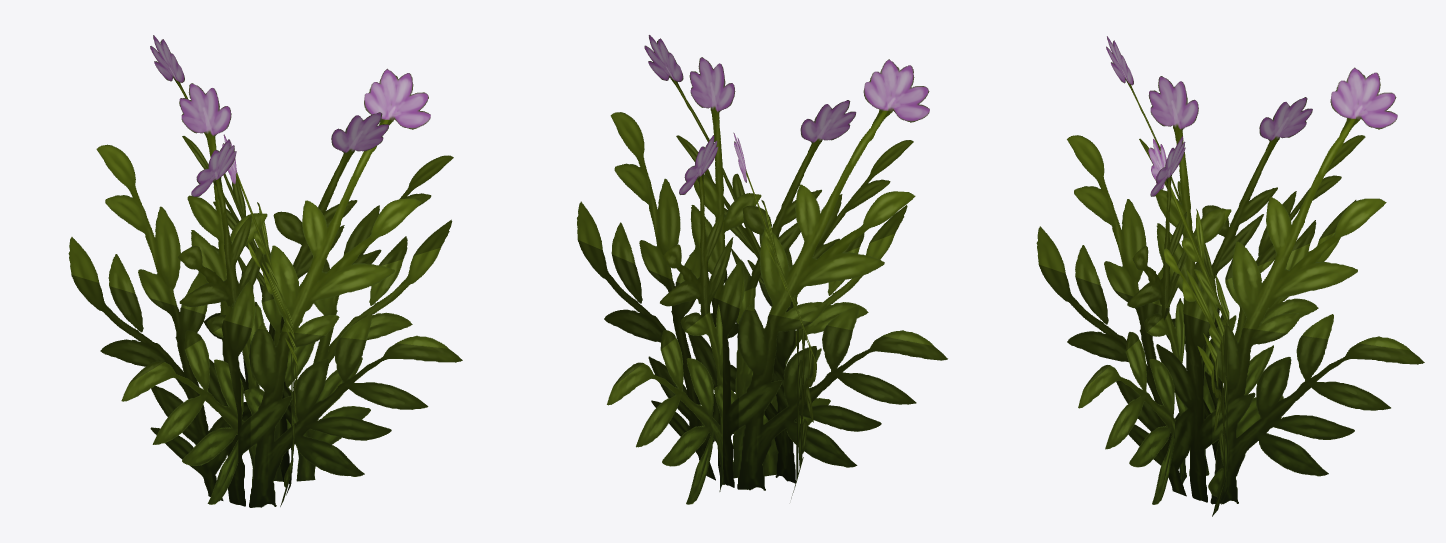
Rendered from large_flower.fbx.
3 renders of one model, left to right at view 1: azimuth 30°, elevation 25°; view 2: azimuth 150°, elevation 25°; view 3: azimuth 270°, elevation 25°, orthographic.
Visible parts, largest first — view 1: large_flower; view 2: large_flower; view 3: large_flower.
Part boxes in pixels (<box>): large_flower: <box>68,35,462,507</box>; large_flower: <box>577,35,947,504</box>; large_flower: <box>1036,36,1424,516</box>.
Bounding box in the file's own units: 3.78 × 3.78 × 3.62.
